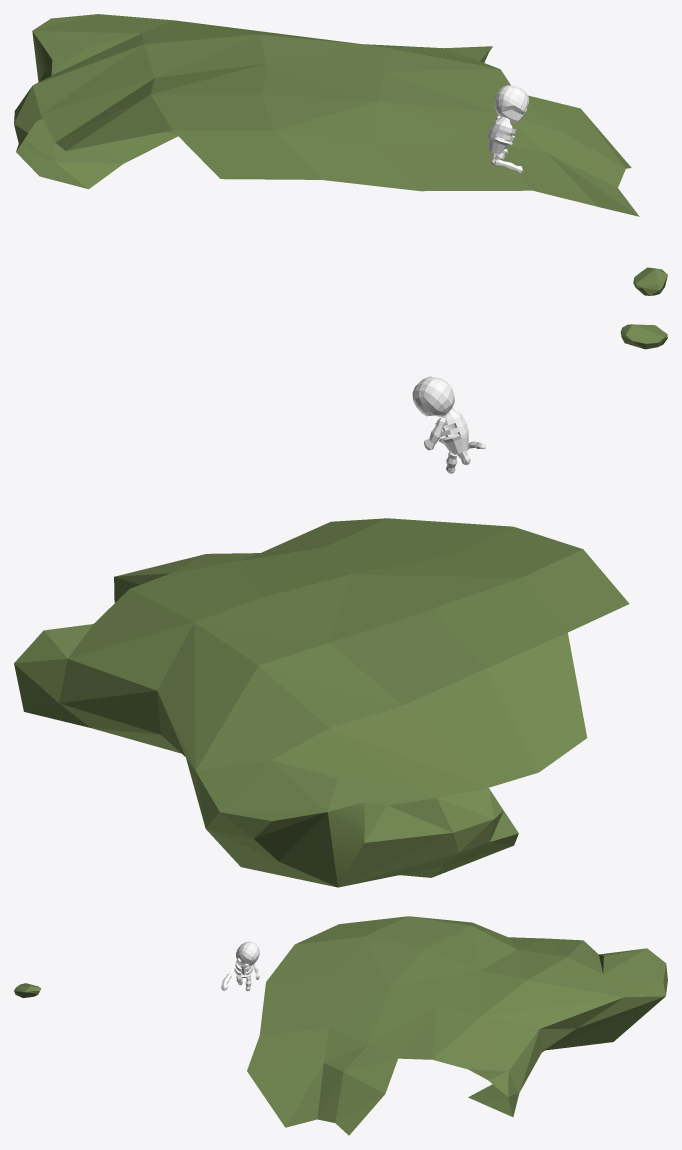
3 views of the same model, one above another, from view 1: azimuth 30°, elevation 25°; view 2: azimuth 150°, elevation 25°; view 3: azimuth 270°, elevation 25° (orthographic). The views are drawn at different scales.
Parts seen in each view (by area): view 1: Plane072_green3_0, Head095_white_0, Sphere167_white_0, Box831_green3_0; view 2: Plane072_green3_0, Head095_white_0, Sphere167_white_0, Box831_green3_0; view 3: Plane072_green3_0, Head095_white_0.
Part boxes in pixels (box(x1,y1,x2,y2)): Plane072_green3_0: box(14, 14, 639, 216); Head095_white_0: box(494, 85, 528, 123); Sphere167_white_0: box(488, 116, 516, 154); Box831_green3_0: box(633, 267, 667, 295); Plane072_green3_0: box(14, 518, 629, 887); Head095_white_0: box(412, 376, 454, 416); Sphere167_white_0: box(435, 408, 468, 454); Box831_green3_0: box(620, 324, 667, 349); Plane072_green3_0: box(247, 916, 667, 1135); Head095_white_0: box(236, 941, 259, 966).
Bounding box in the file's own units: 1035 × 426 × 1739.
